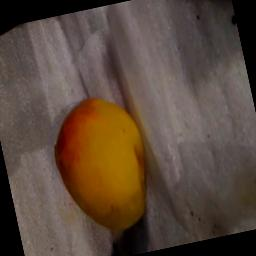Peach Unripe: (40, 82, 174, 249)
